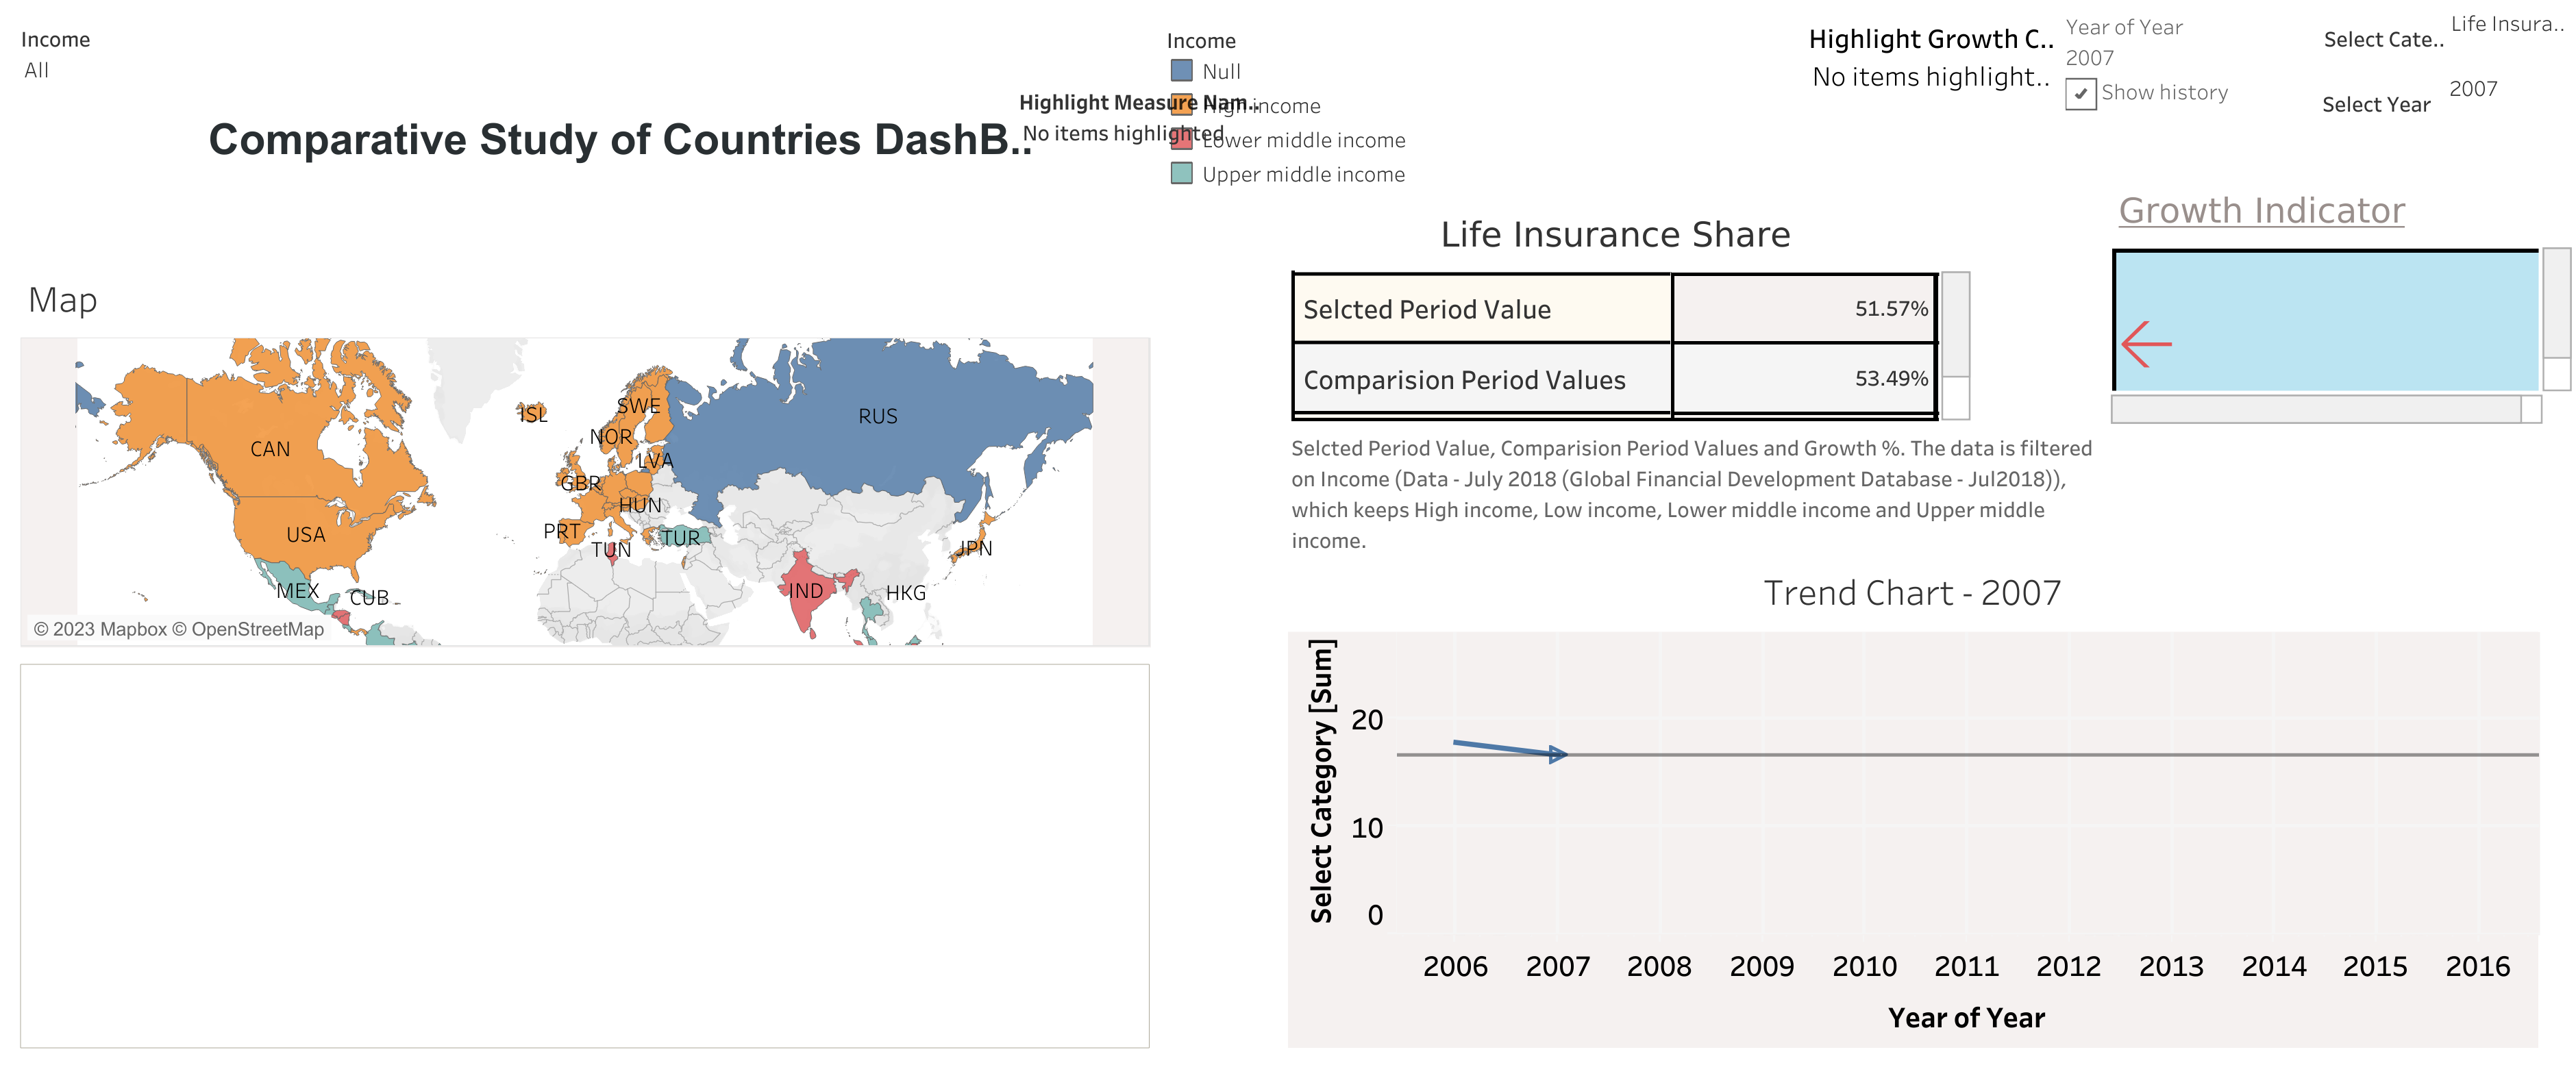

What the dashboard file says about the page in this screenshot:
{"tool":"tableau","page":{"name":"Dashboard 1","canvas":[1000,1000],"units":"permille","ordinal":0},"visuals":[{"type":"parameter","param":"[Parameters].[Parameter 1]","box":[901.6,7,96.6,56.3]},{"type":"currpage","title":"Trend Chart","box":[801.5,8.2,96.6,138.5]},{"type":"filter","title":"Map","param":"[federated.1ibj6yf03kf6n217jiwpe1eykb76].[none:income:nk]","box":[4.8,9.4,494.9,166.7]},{"type":"legend","title":"Map","param":"[federated.1ibj6yf03kf6n217jiwpe1eykb76].[none:income:nk]","box":[499.7,9.4,495.5,133.8]},{"type":"highlighter","title":"Growth Indicator","param":"[federated.0itnyp91ognm2410pzi750mlzt73].[usr:Calculation_1900519056548917259:nk","box":[701.9,16.4,96.6,98.6]},{"type":"parameter","param":"[Parameters].[Parameter 2]","box":[901,66.9,96.6,56.3]},{"type":"highlighter","title":"KPI Table","param":"[federated.0itnyp91ognm2410pzi750mlzt73].[:Measure Names]","box":[395.3,78.6,96.6,88]},{"type":"text","box":[74.2,88,333.1,85.7]},{"type":"worksheet","title":"Growth Indicator","mark":"Automatic","box":[818.4,169,179.8,228.9]},{"type":"worksheet","title":"Map","mark":"Multipolygon","box":[4.8,176.1,494.9,319.8]},{"type":"worksheet","title":"KPI Table","mark":"Automatic","box":[500.9,191.3,313.8,333.3]},{"type":"web page","param":"https://en.wikipedia.org/wiki/Hungary","box":[4.8,495.9,494.9,494.7]},{"type":"worksheet","title":"Trend Chart","mark":"Shape","rows":["Calculation_1900519056518819847"],"cols":["Year"],"box":[499.1,521.1,486.4,463.6]}]}

Visuals, with their boxes on the dashboard's canvas, which has no fixed pixel size, in thousandths of its width and height (x1, y1, x2, y2). These are canvas units, not pixel positions in the 2576x1065 screenshot, which may show the page scaled, cropped or inside an application window:
parameter: 902:7:998:63
"Trend Chart" currpage: 802:8:898:147
"Map" filter: 5:9:500:176
"Map" legend: 500:9:995:143
"Growth Indicator" highlighter: 702:16:798:115
parameter: 901:67:998:123
"KPI Table" highlighter: 395:79:492:167
text: 74:88:407:174
"Growth Indicator" worksheet: 818:169:998:398
"Map" worksheet (Multipolygon marks): 5:176:500:496
"KPI Table" worksheet: 501:191:815:525
web page: 5:496:500:991
"Trend Chart" worksheet (Shape marks): 499:521:986:985
